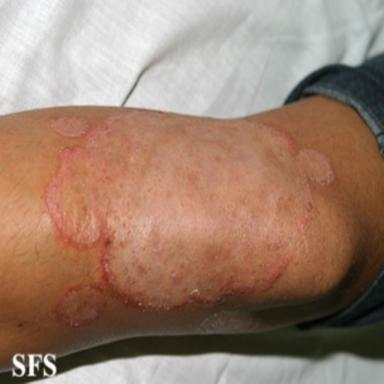Tinea-Corporis: (45, 111, 333, 309), (55, 286, 105, 326)
